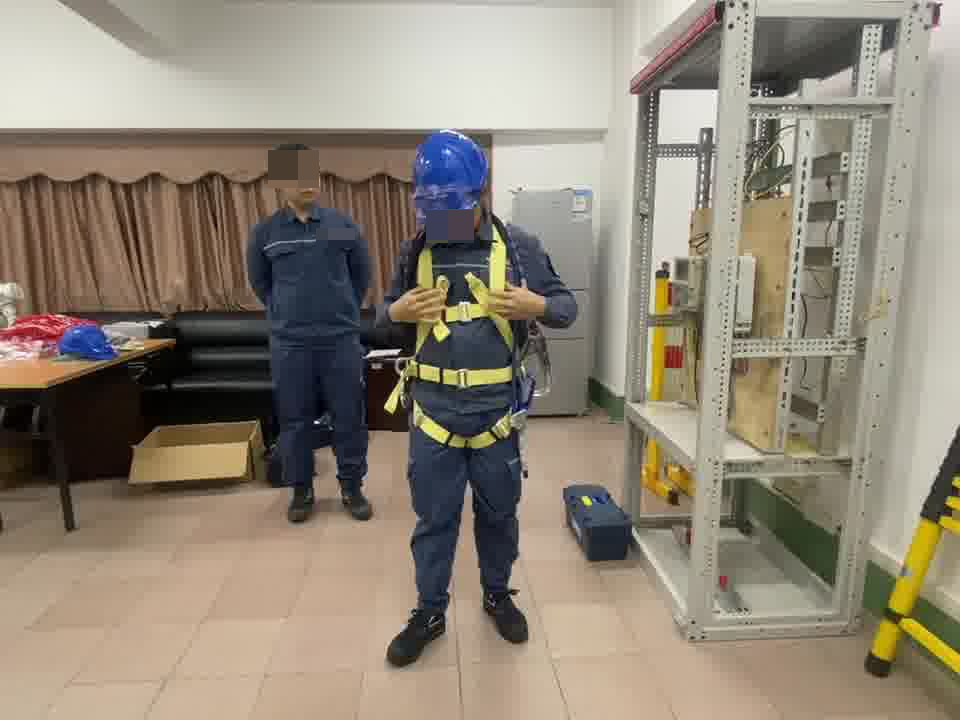downsuit: (405, 414, 525, 606), (267, 354, 369, 486)
halt: (411, 132, 492, 232)
hand: (486, 278, 543, 320), (391, 281, 440, 321)
noear: (272, 159, 304, 201)
person: (389, 130, 579, 654), (243, 144, 375, 522)
safebelt: (381, 221, 532, 446)
unhalt: (268, 144, 324, 211)
upsuit: (391, 211, 565, 399), (244, 206, 372, 343)
